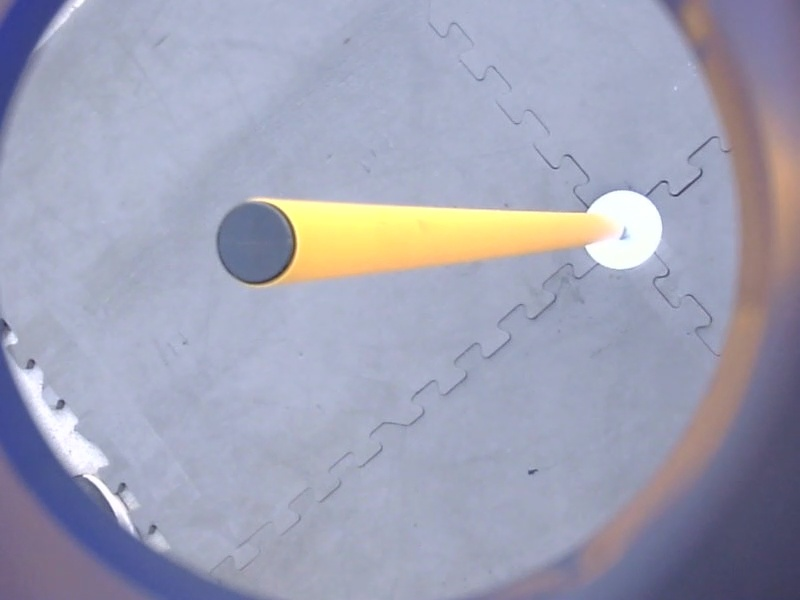tip: (208, 192, 306, 292)
